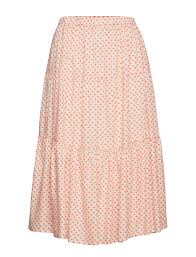C_skirt: (20, 8, 185, 253)
